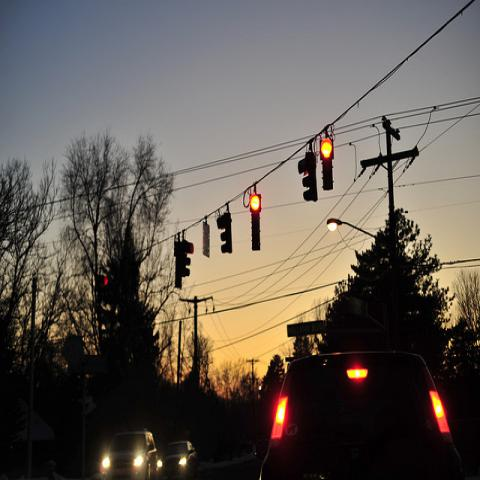car: (257, 347, 468, 479), (100, 430, 160, 479), (159, 440, 197, 480)
